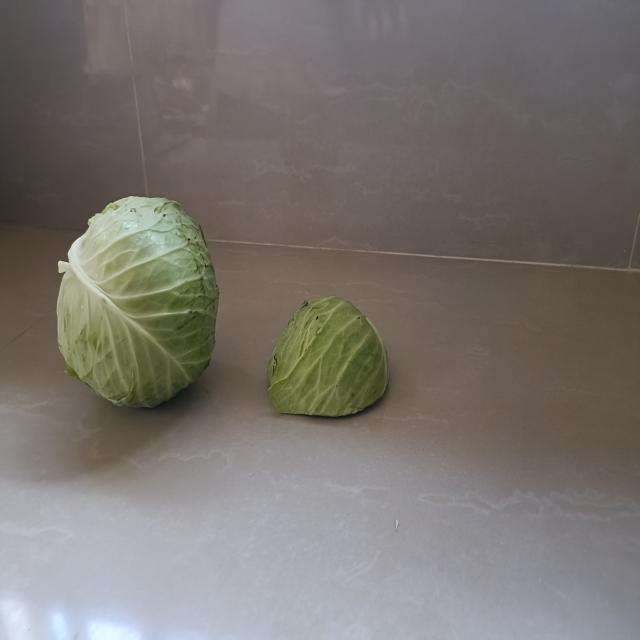cabbage: (51, 189, 222, 409), (264, 292, 394, 423)
